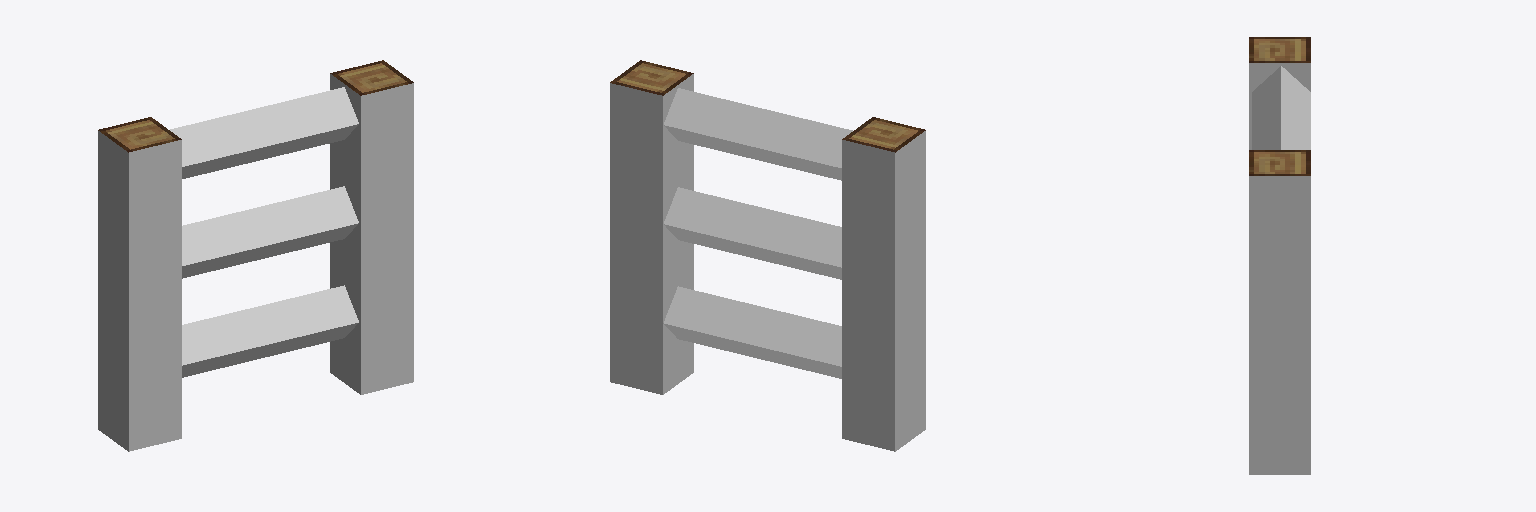
3 renders of one model, left to right at view 1: azimuth 30°, elevation 25°; view 2: azimuth 150°, elevation 25°; view 3: azimuth 270°, elevation 25°, orthographic.
Visible parts, largest first — view 1: cube; view 2: cube; view 3: cube.
Part boxes in pixels (left/top/right/bottom): cube: left=98, top=60, right=413, bottom=451; cube: left=610, top=60, right=925, bottom=451; cube: left=1249, top=37, right=1310, bottom=474.
Size of the model in its own units: 1 by 1 by 0.1875.
2 materials, 1 textured.